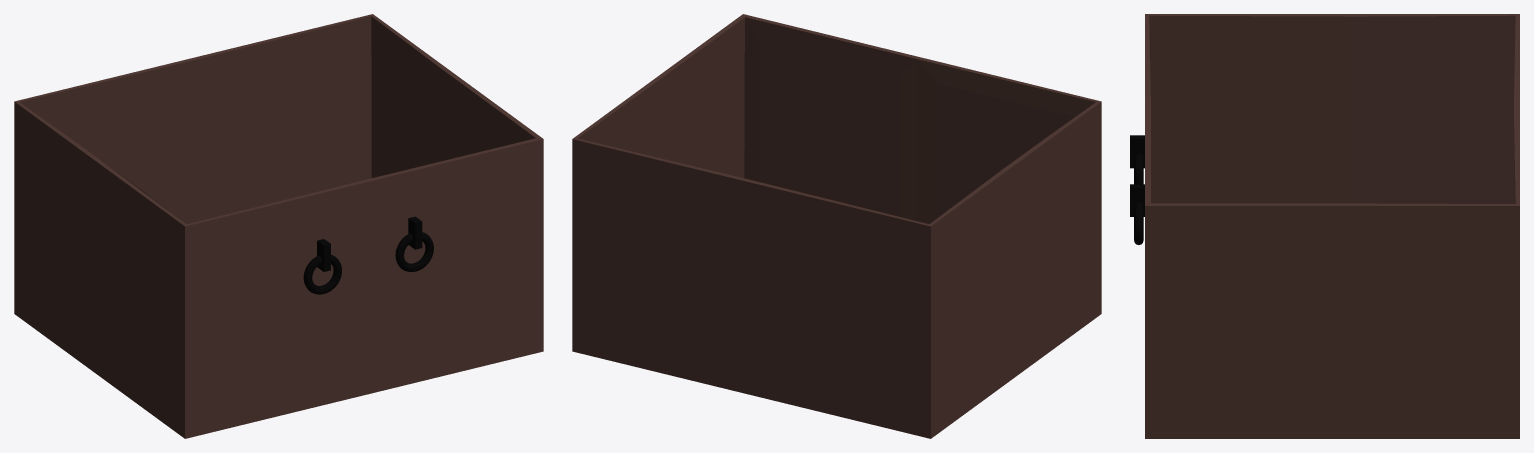
Rendered from PuxarGaveta2.fbx.
3 renders of one model, left to right at view 1: azimuth 30°, elevation 25°; view 2: azimuth 150°, elevation 25°; view 3: azimuth 270°, elevation 25°, orthographic. The views are drawn at different scales.
Parts seen in each view (by area): view 1: gaveteiro puxar.001; view 2: gaveteiro puxar.001; view 3: gaveteiro puxar.001.
Part boxes in pixels (x1,y1,x2,y2): gaveteiro puxar.001: (14,14,543,438); gaveteiro puxar.001: (572,14,1101,438); gaveteiro puxar.001: (1130,14,1519,438).
Bounding box in the file's own units: 75.37 × 42.67 × 64.68.
